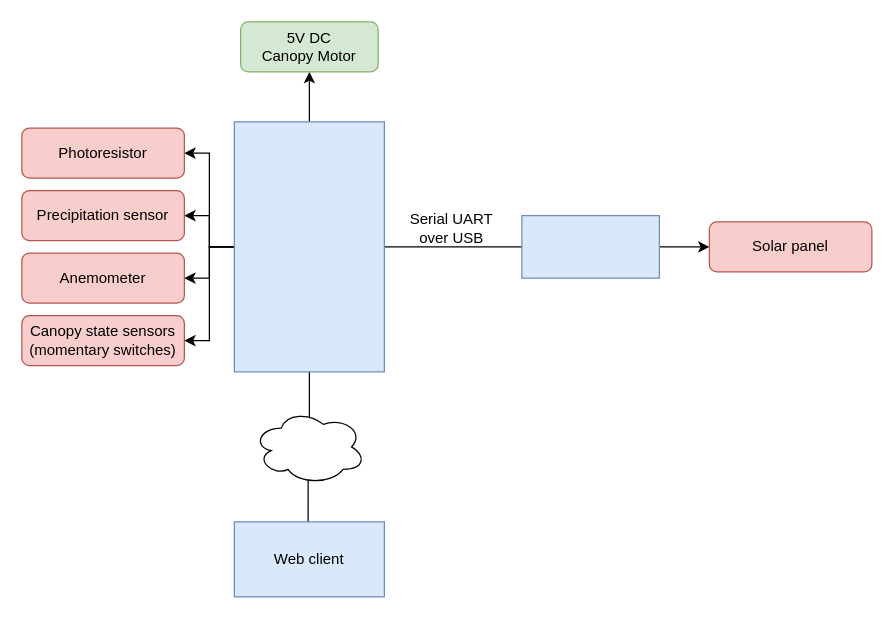
Image size: 894x619. Some labels were removed from this diagram. Here are the shapes that lost their labels. From the top down, the box of each, then its label:
(233, 121, 384, 372): Raspberry Pi 3 (with ExplorerHAT)
(521, 214, 659, 278): Arduino Nano
(252, 408, 366, 484): LAN
